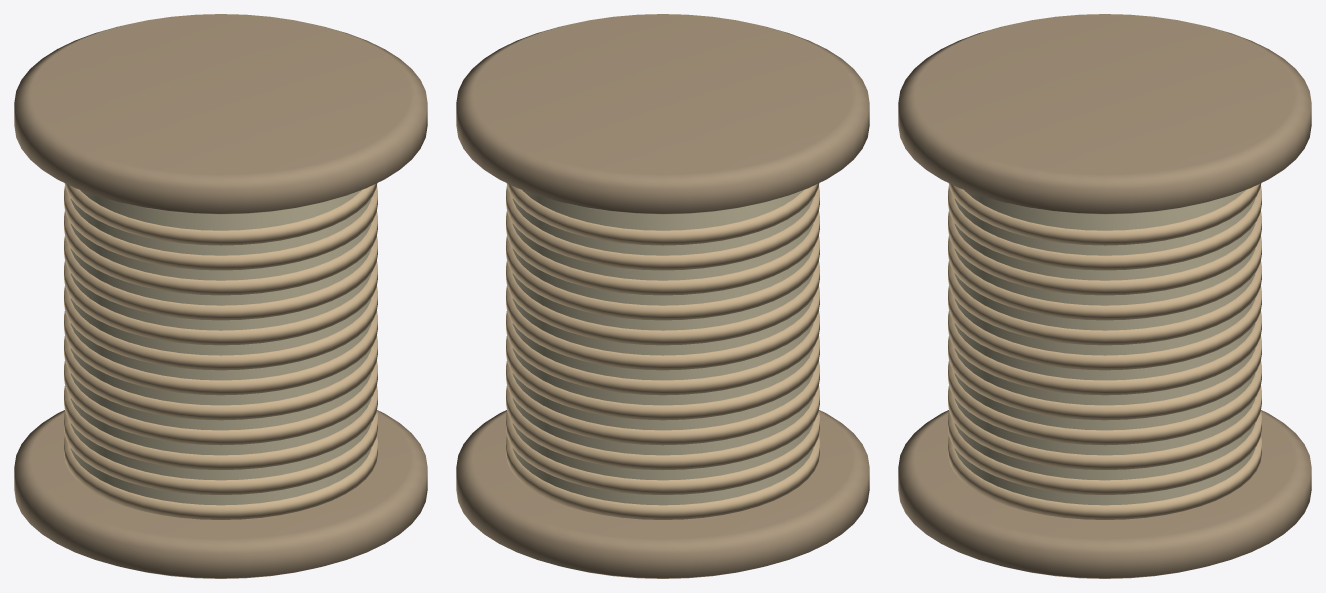
File: coastal-saltworks-and-trade-port-coastal-saltworks-and-2487fec5__31396.glb
3 renders of one model, left to right at view 1: azimuth 30°, elevation 25°; view 2: azimuth 150°, elevation 25°; view 3: azimuth 270°, elevation 25°, orthographic.
Visible parts, largest first — view 1: coastal-saltworks-and-trade-port-sack-stitch-spool; view 2: coastal-saltworks-and-trade-port-sack-stitch-spool; view 3: coastal-saltworks-and-trade-port-sack-stitch-spool.
Part boxes in pixels (left/top/right/bottom): coastal-saltworks-and-trade-port-sack-stitch-spool: left=14, top=14, right=427, bottom=578; coastal-saltworks-and-trade-port-sack-stitch-spool: left=456, top=14, right=869, bottom=578; coastal-saltworks-and-trade-port-sack-stitch-spool: left=898, top=14, right=1311, bottom=578.
Bounding box in the file's own units: 0.15 × 0.162 × 0.15.
